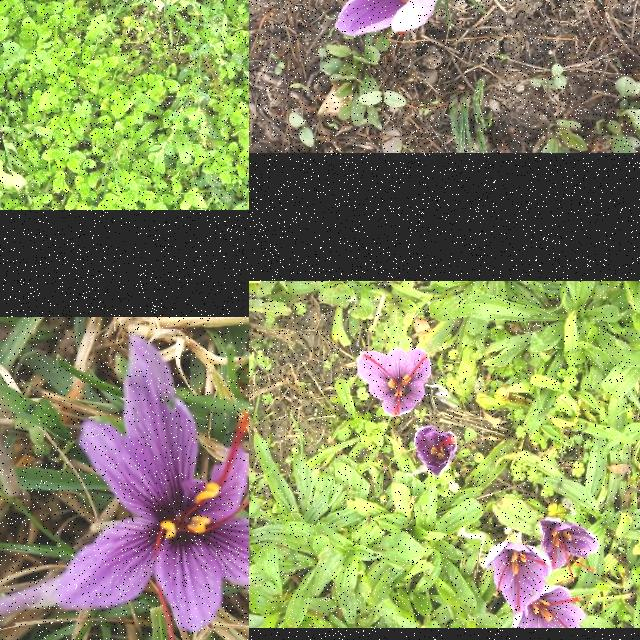flower: (51, 334, 249, 640), (486, 542, 552, 616), (358, 350, 430, 416), (335, 0, 439, 37), (539, 519, 599, 583), (512, 586, 586, 628), (415, 428, 457, 478)
